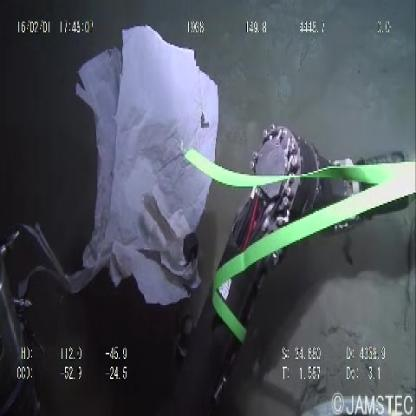Rov: (177, 116, 414, 412)
Rác: (83, 20, 227, 304)
